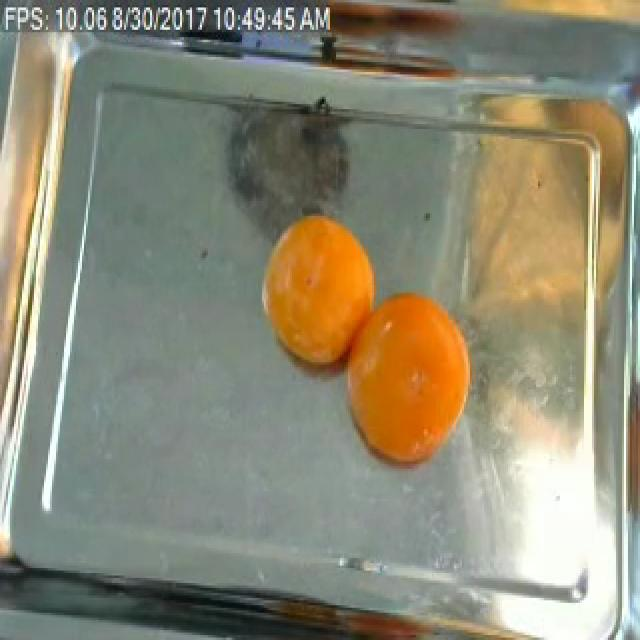Fruit: (330, 270, 478, 492), (248, 201, 386, 379), (224, 94, 364, 231)
